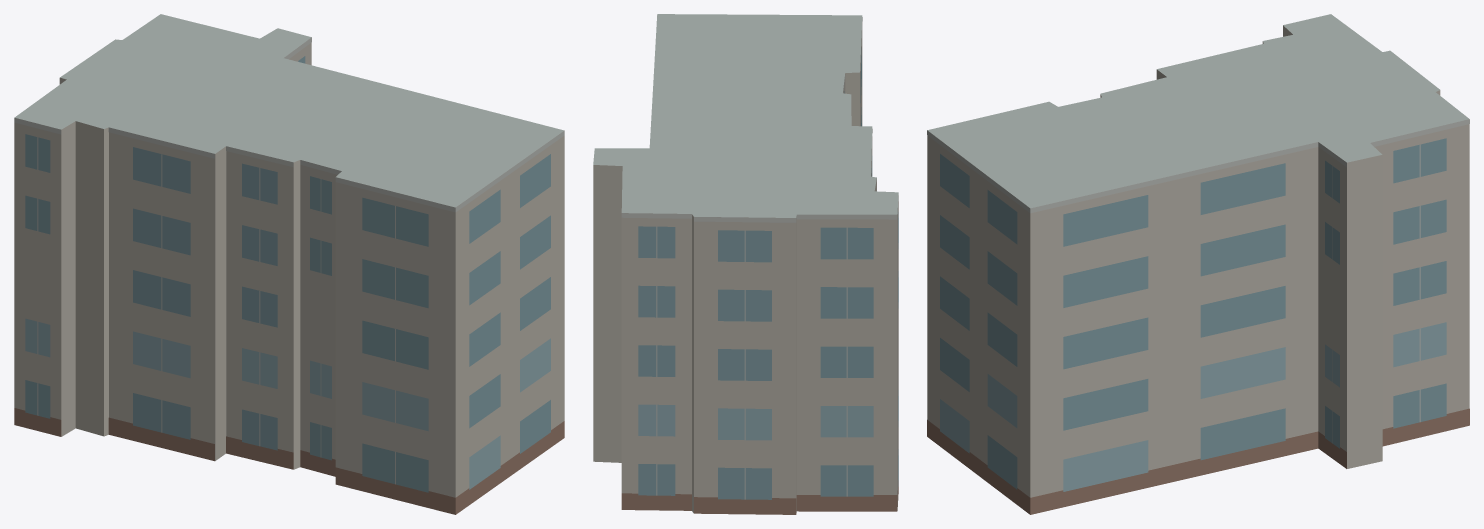
Rendered from survey-upis-32590528.glb.
3 renders of one model, left to right at view 1: azimuth 30°, elevation 25°; view 2: azimuth 150°, elevation 25°; view 3: azimuth 270°, elevation 25°, orthographic. The views are drawn at different scales.
Visible parts, largest first — view 1: survey-upis-32590528.tmp; view 2: survey-upis-32590528.tmp; view 3: survey-upis-32590528.tmp.
Part boxes in pixels (left/top/right/bottom): survey-upis-32590528.tmp: left=14, top=14, right=564, bottom=514; survey-upis-32590528.tmp: left=593, top=14, right=898, bottom=514; survey-upis-32590528.tmp: left=927, top=14, right=1469, bottom=514.
Bounding box in the file's own units: 20.68 × 15.2 × 24.4.
